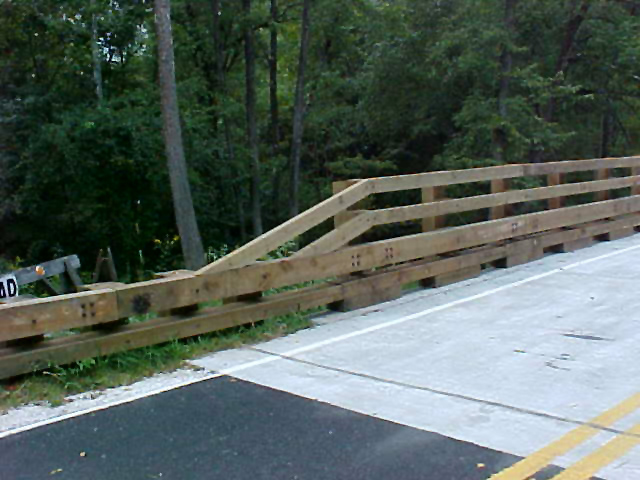damaged: (125, 232, 398, 327)
not_damaged: (373, 170, 640, 279)
